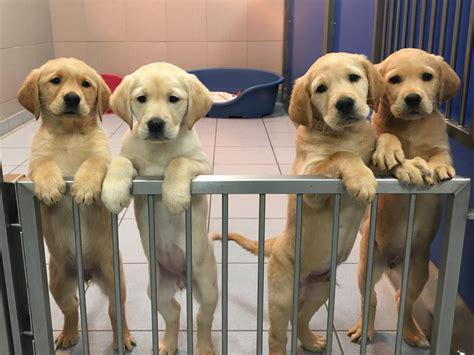dog: (228, 51, 403, 355), (18, 57, 136, 353), (346, 47, 460, 346), (102, 61, 217, 355)
